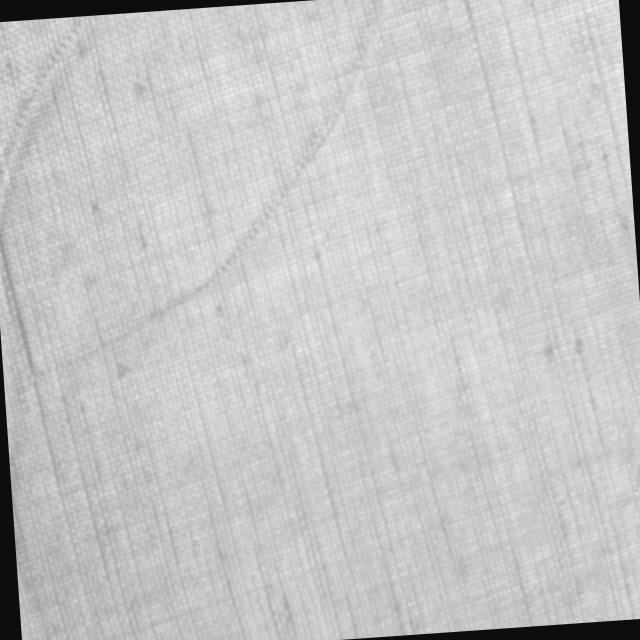objects: (0, 0, 412, 381)
